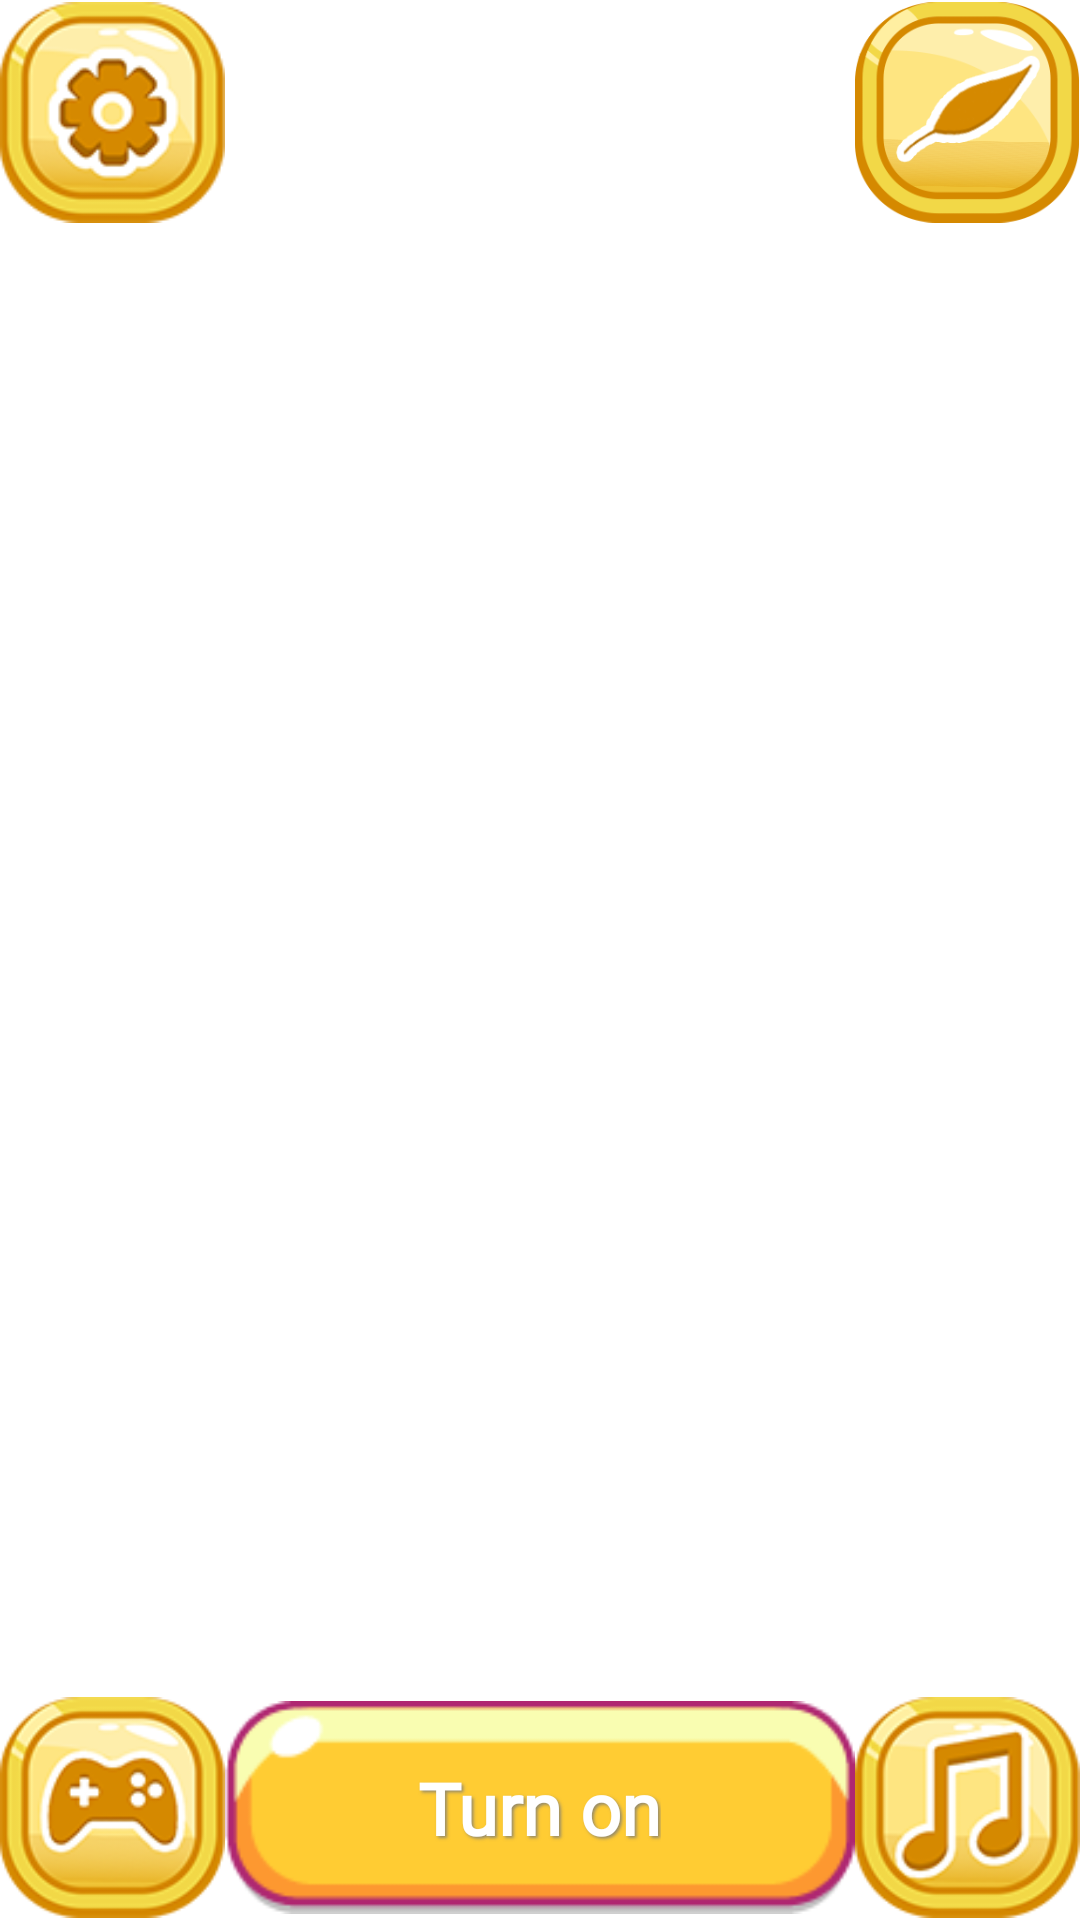

Icons on this 1080*1920 Android screen, each with its box as [x1=x1, y1=y1, x2=x2, y2=y2]:
button for start game with cards: [x1=0, y1=1697, x2=225, y2=1918]
button for start melody list: [x1=855, y1=1697, x2=1080, y2=1918]
leaf button for gets money from adds: [x1=855, y1=2, x2=1079, y2=223]
setting: [x1=0, y1=2, x2=225, y2=223]
